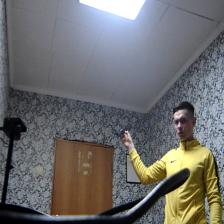drone: (110, 124, 135, 140)
